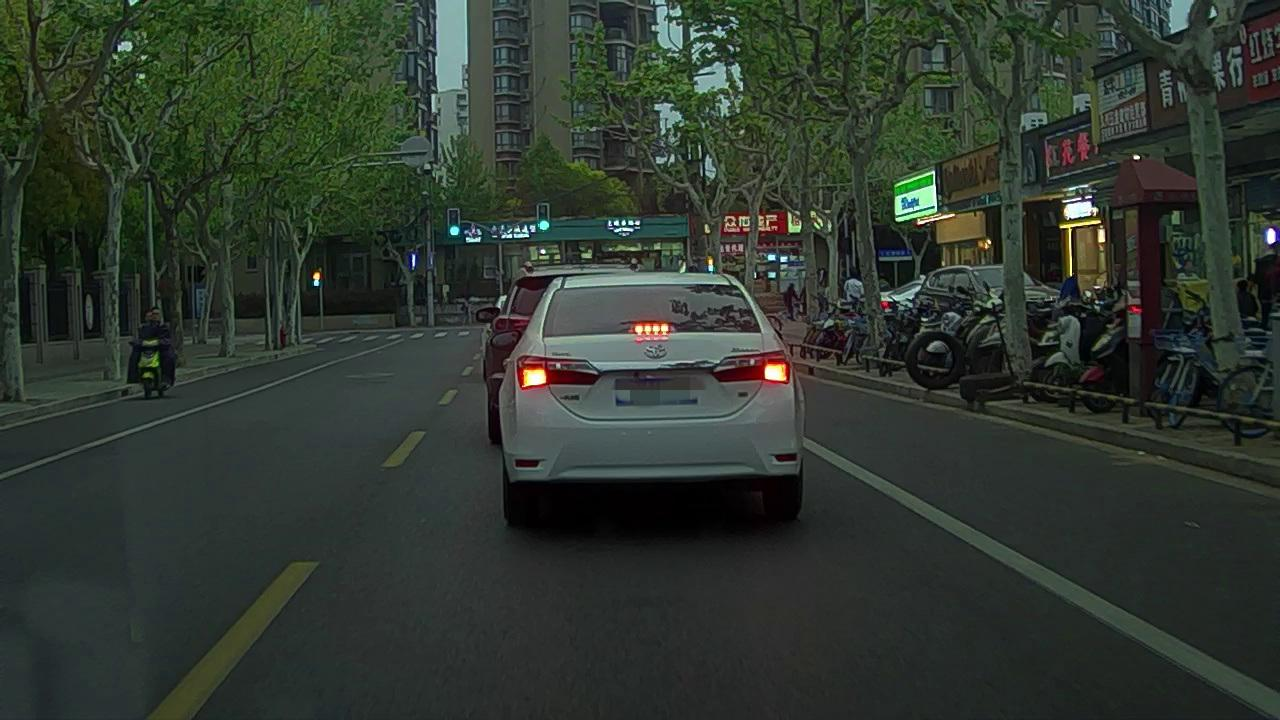traffic_light: (448, 208, 460, 239), (537, 204, 549, 233)
